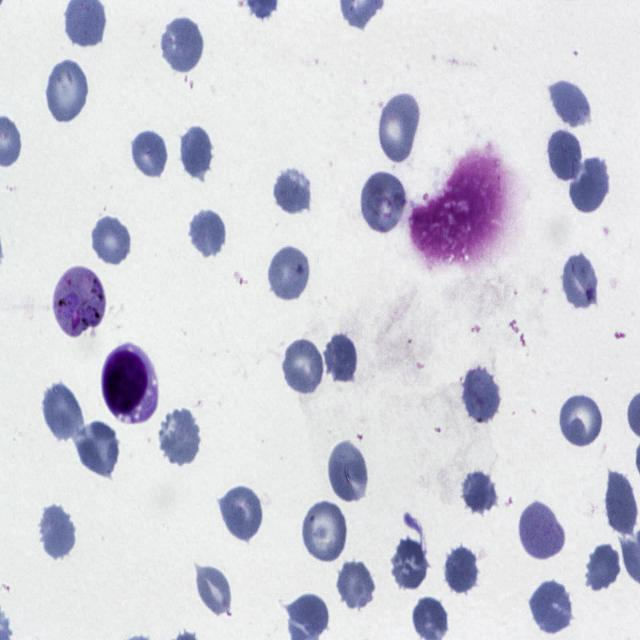leukocyte: (100, 344, 159, 424)
red blood cell: (377, 89, 422, 166), (300, 498, 350, 565), (44, 56, 90, 126), (360, 169, 408, 236), (518, 499, 566, 563), (40, 380, 85, 444), (159, 14, 206, 75), (327, 439, 369, 507), (72, 419, 120, 478), (266, 243, 312, 304), (156, 407, 202, 468), (566, 156, 612, 217), (218, 483, 265, 542), (280, 336, 326, 396), (528, 576, 574, 635), (602, 468, 640, 538), (460, 364, 502, 426), (546, 77, 594, 131), (558, 393, 604, 449), (561, 249, 600, 310), (38, 503, 77, 562), (390, 536, 430, 593), (128, 128, 170, 182), (544, 128, 584, 184), (192, 562, 232, 618), (90, 214, 132, 267), (272, 164, 313, 218), (186, 203, 224, 260), (336, 558, 376, 612), (179, 122, 215, 181), (458, 466, 500, 516), (324, 331, 361, 385), (444, 544, 481, 596), (582, 546, 620, 592)
trophozoite: (54, 265, 105, 334)
